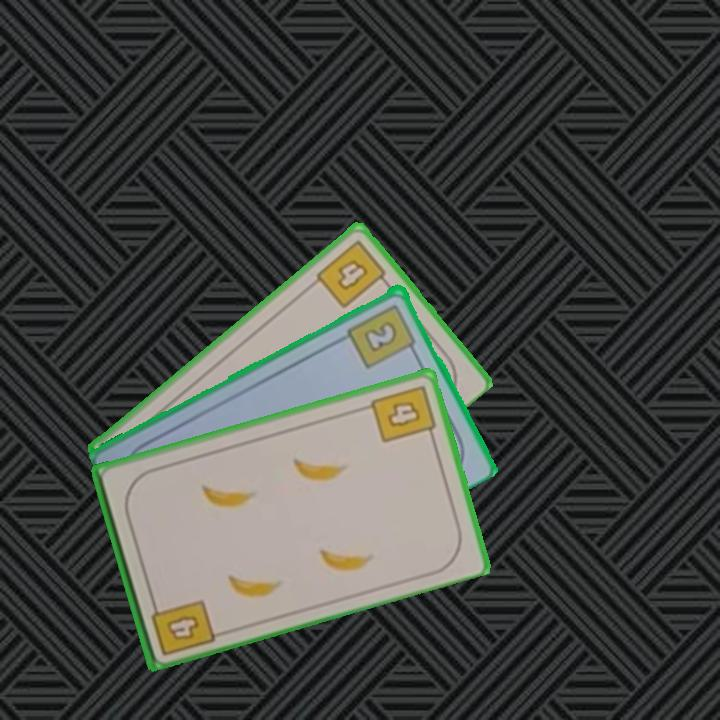2b: (344, 300, 420, 371)
4b: (312, 236, 393, 311), (367, 381, 438, 446), (147, 594, 217, 658)
